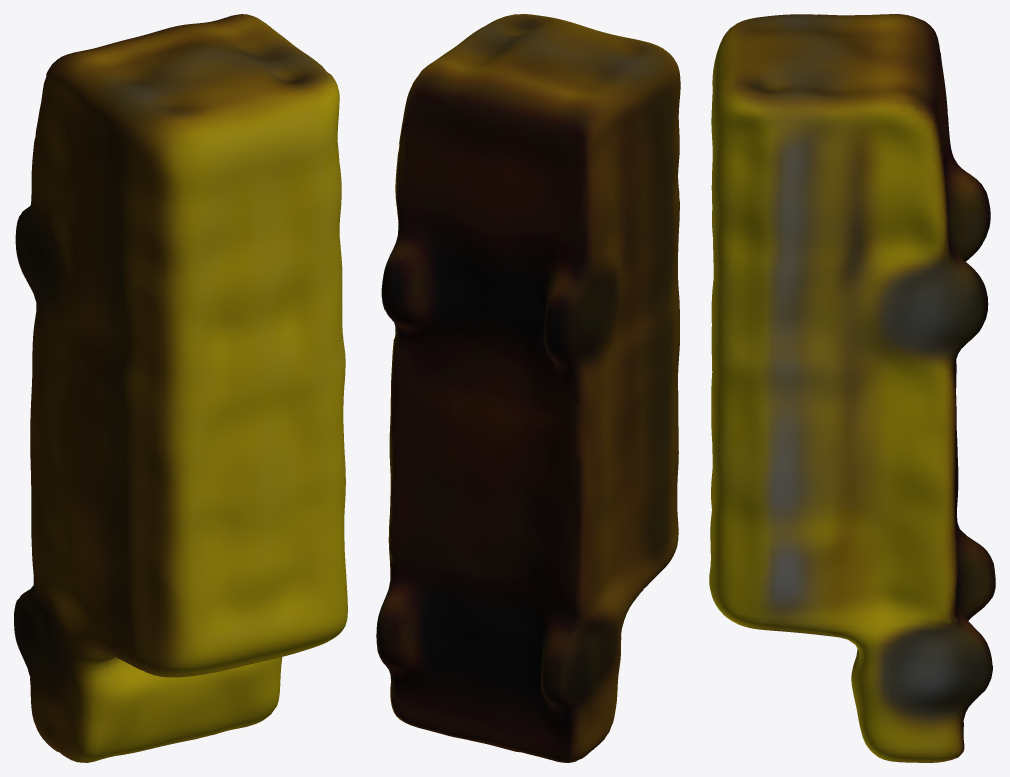
The model's file is school_bus1.glb.
3 renders of one model, left to right at view 1: azimuth 30°, elevation 25°; view 2: azimuth 150°, elevation 25°; view 3: azimuth 270°, elevation 25°, orthographic. The views are drawn at different scales.
Bounding box in the file's own units: 0.3306 × 0.9998 × 0.384.
